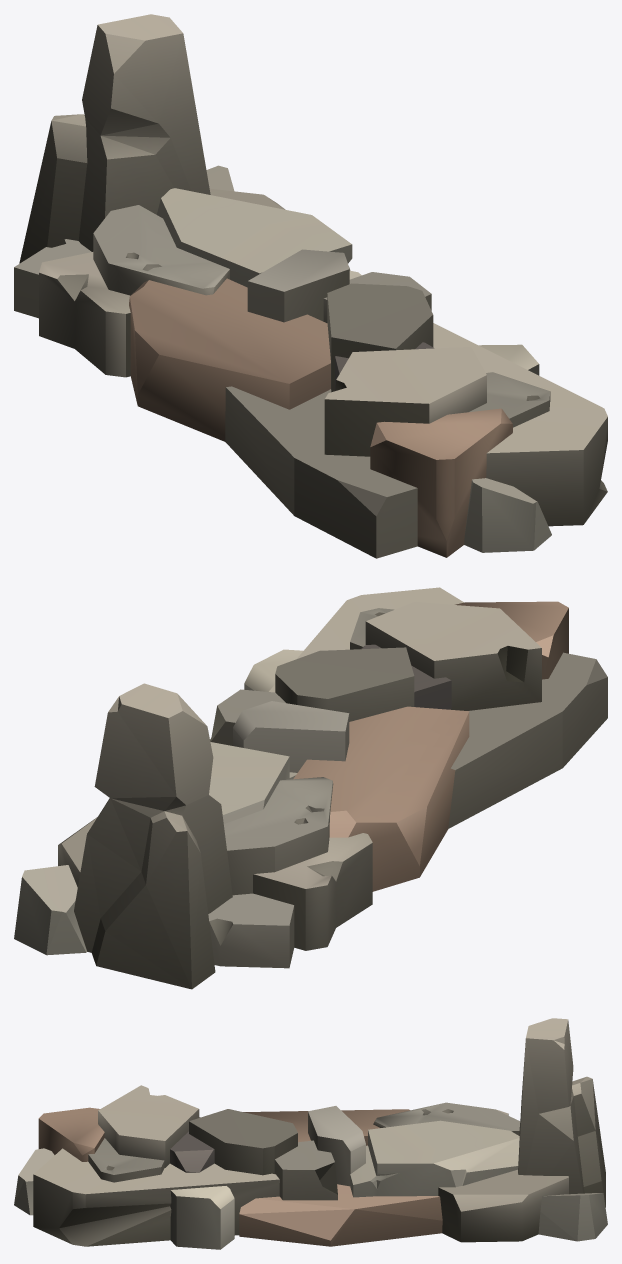
The model's file is Grave_1B.fbx.
3 renders of one model, top to bottom at view 1: azimuth 30°, elevation 25°; view 2: azimuth 150°, elevation 25°; view 3: azimuth 270°, elevation 25°, orthographic. The views are drawn at different scales.
Parts seen in each view (by area): view 1: Grave_1B; view 2: Grave_1B; view 3: Grave_1B.
Boxes of the visible parts, bbox=[...] form: Grave_1B: bbox=[14, 14, 607, 558]; Grave_1B: bbox=[14, 587, 607, 989]; Grave_1B: bbox=[14, 1018, 607, 1249].
Bounding box in the file's own units: 107 × 91.95 × 279.
